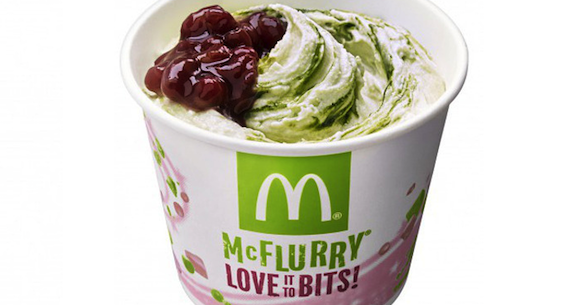mcdonalds: (252, 172, 334, 227)
